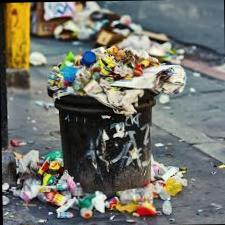trash: (32, 0, 182, 66), (47, 42, 174, 107), (6, 131, 72, 214), (100, 180, 175, 223), (46, 184, 112, 222), (146, 152, 194, 198)
trash_can_overflow: (25, 12, 191, 219)
